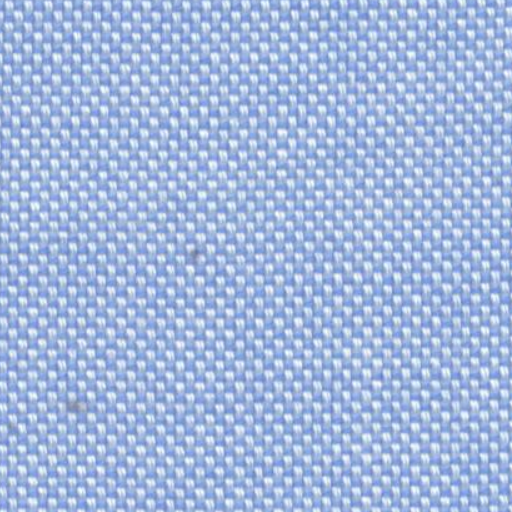WuZi: (40, 379, 100, 419), (165, 238, 222, 276)
